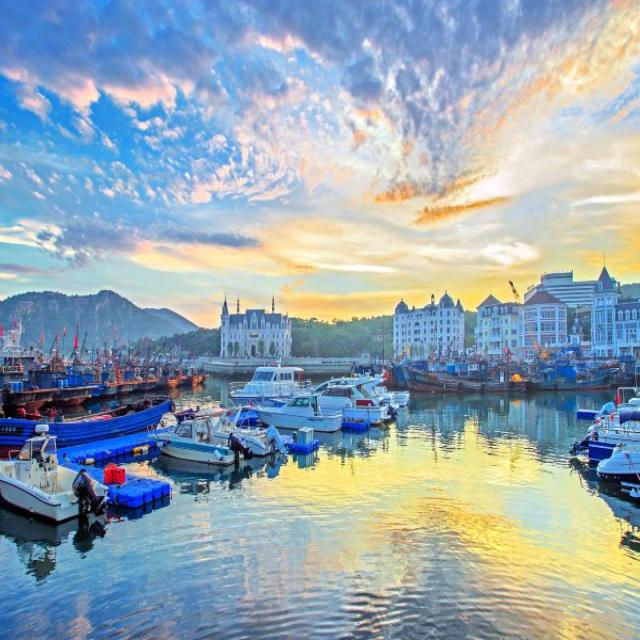houseboat: (316, 378, 389, 417), (224, 370, 308, 400)
